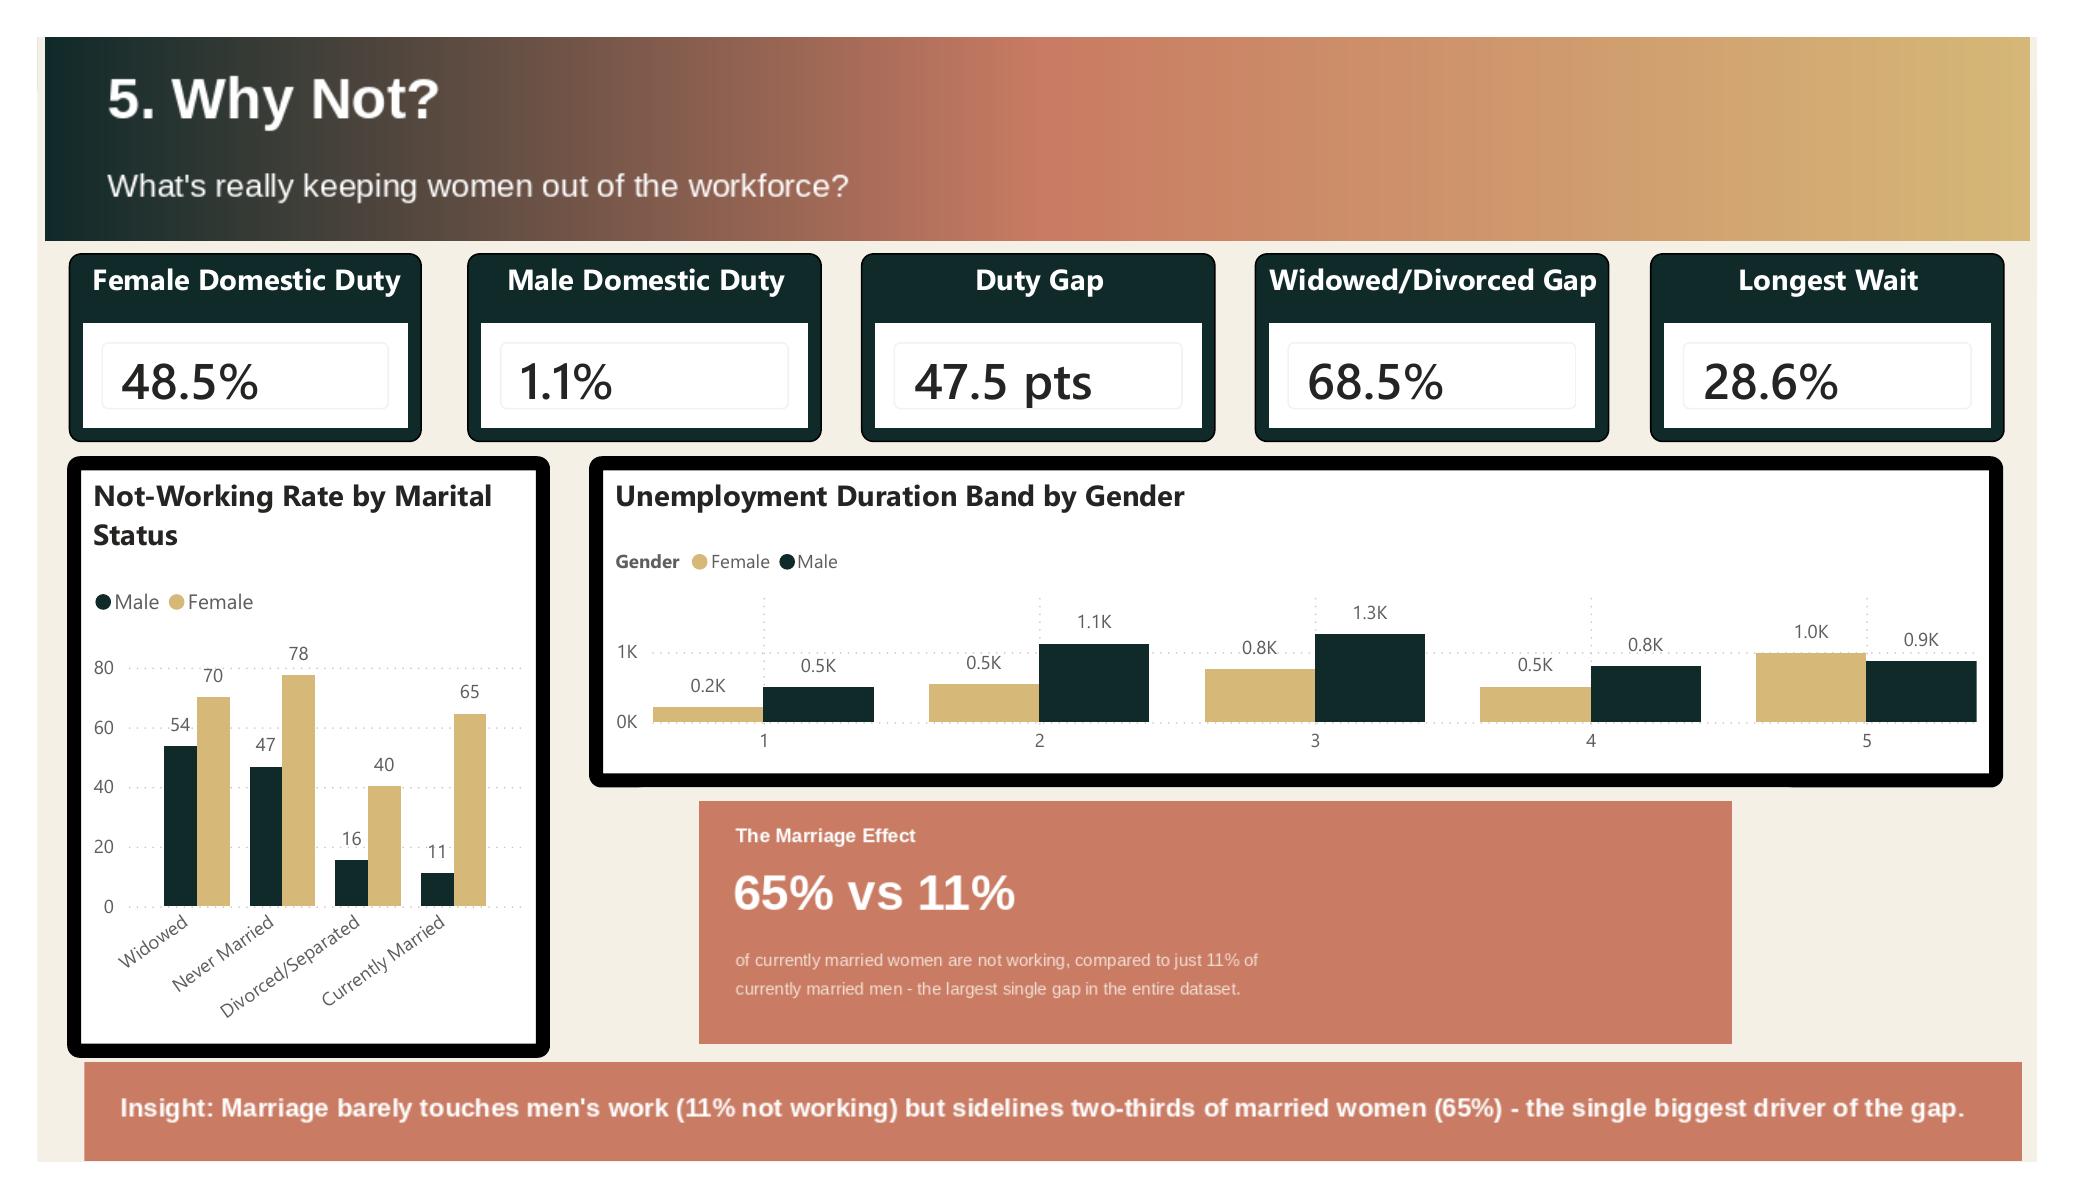

The page's visual inventory and layout, read from the dashboard file:
{"tool":"powerbi","page":{"name":"5. Why Not?","canvas":[1280,720],"ordinal":5},"visuals":[{"type":"image","box":[0,0,1280.3,129.6],"z":0},{"type":"cardVisual","title":"Female Domestic Duty","fields":{"Data":["_Measures.Female_Domestic_Duty_Percent_Display"]},"box":[19.7,138,226.1,120.9],"z":1000},{"type":"cardVisual","title":"Male Domestic Duty","fields":{"Data":["_Measures.Male_Domestic_Duty_Percent_Display"]},"box":[275.1,138.2,226.8,120.6],"z":2000},{"type":"cardVisual","title":"Duty Gap","fields":{"Data":["_Measures.Domestic_Duty_Gender_Gap_Display"]},"box":[527,138.2,226.8,120.6],"z":3000},{"type":"cardVisual","title":"Widowed/Divorced Gap","fields":{"Data":["_Measures.Widowed_Divorced_Female_NotWorking_Percent_Display"]},"box":[778.9,138.2,226.8,120.6],"z":4000},{"type":"cardVisual","title":"Longest Wait","fields":{"Data":["_Measures.Female_LongTerm_Unemployed_Percent_Display"]},"box":[1032.1,138.2,226.8,120.6],"z":5000},{"type":"clusteredColumnChart","title":"Not-Working Rate by Marital Status","fields":{"Category":["PLFS_Main.Marital_Status"],"Y":["_Measures.Male_NotWorking_Rate","_Measures.Female_NotWorking_Rate"]},"box":[19.3,267.8,308.8,384.9],"z":6000},{"type":"clusteredColumnChart","title":"Unemployment Duration Band by Gender","fields":{"Category":["PLFS_Main.Duration_Unemployment_Spell"],"Y":["_Measures.Unemployed_Count"],"Series":["PLFS_Main.Gender"]},"box":[353.5,267.8,904.8,212.3],"z":7000},{"type":"image","box":[378.8,480.2,750,172.5],"z":8000},{"type":"image","box":[30.2,655.1,1240,65.1],"z":9000}]}

Visuals, with their boxes in screenshot pixels (x1, y1, x2, y2):
image: region(38, 38, 2012, 238)
"Female Domestic Duty" cardVisual: region(68, 251, 417, 437)
"Male Domestic Duty" cardVisual: region(462, 251, 812, 437)
"Duty Gap" cardVisual: region(850, 251, 1200, 437)
"Widowed/Divorced Gap" cardVisual: region(1239, 251, 1589, 437)
"Longest Wait" cardVisual: region(1629, 251, 1979, 437)
"Not-Working Rate by Marital Status" clusteredColumnChart: region(68, 451, 544, 1044)
"Unemployment Duration Band by Gender" clusteredColumnChart: region(583, 451, 1978, 778)
image: region(622, 778, 1778, 1044)
image: region(84, 1048, 1996, 1148)
